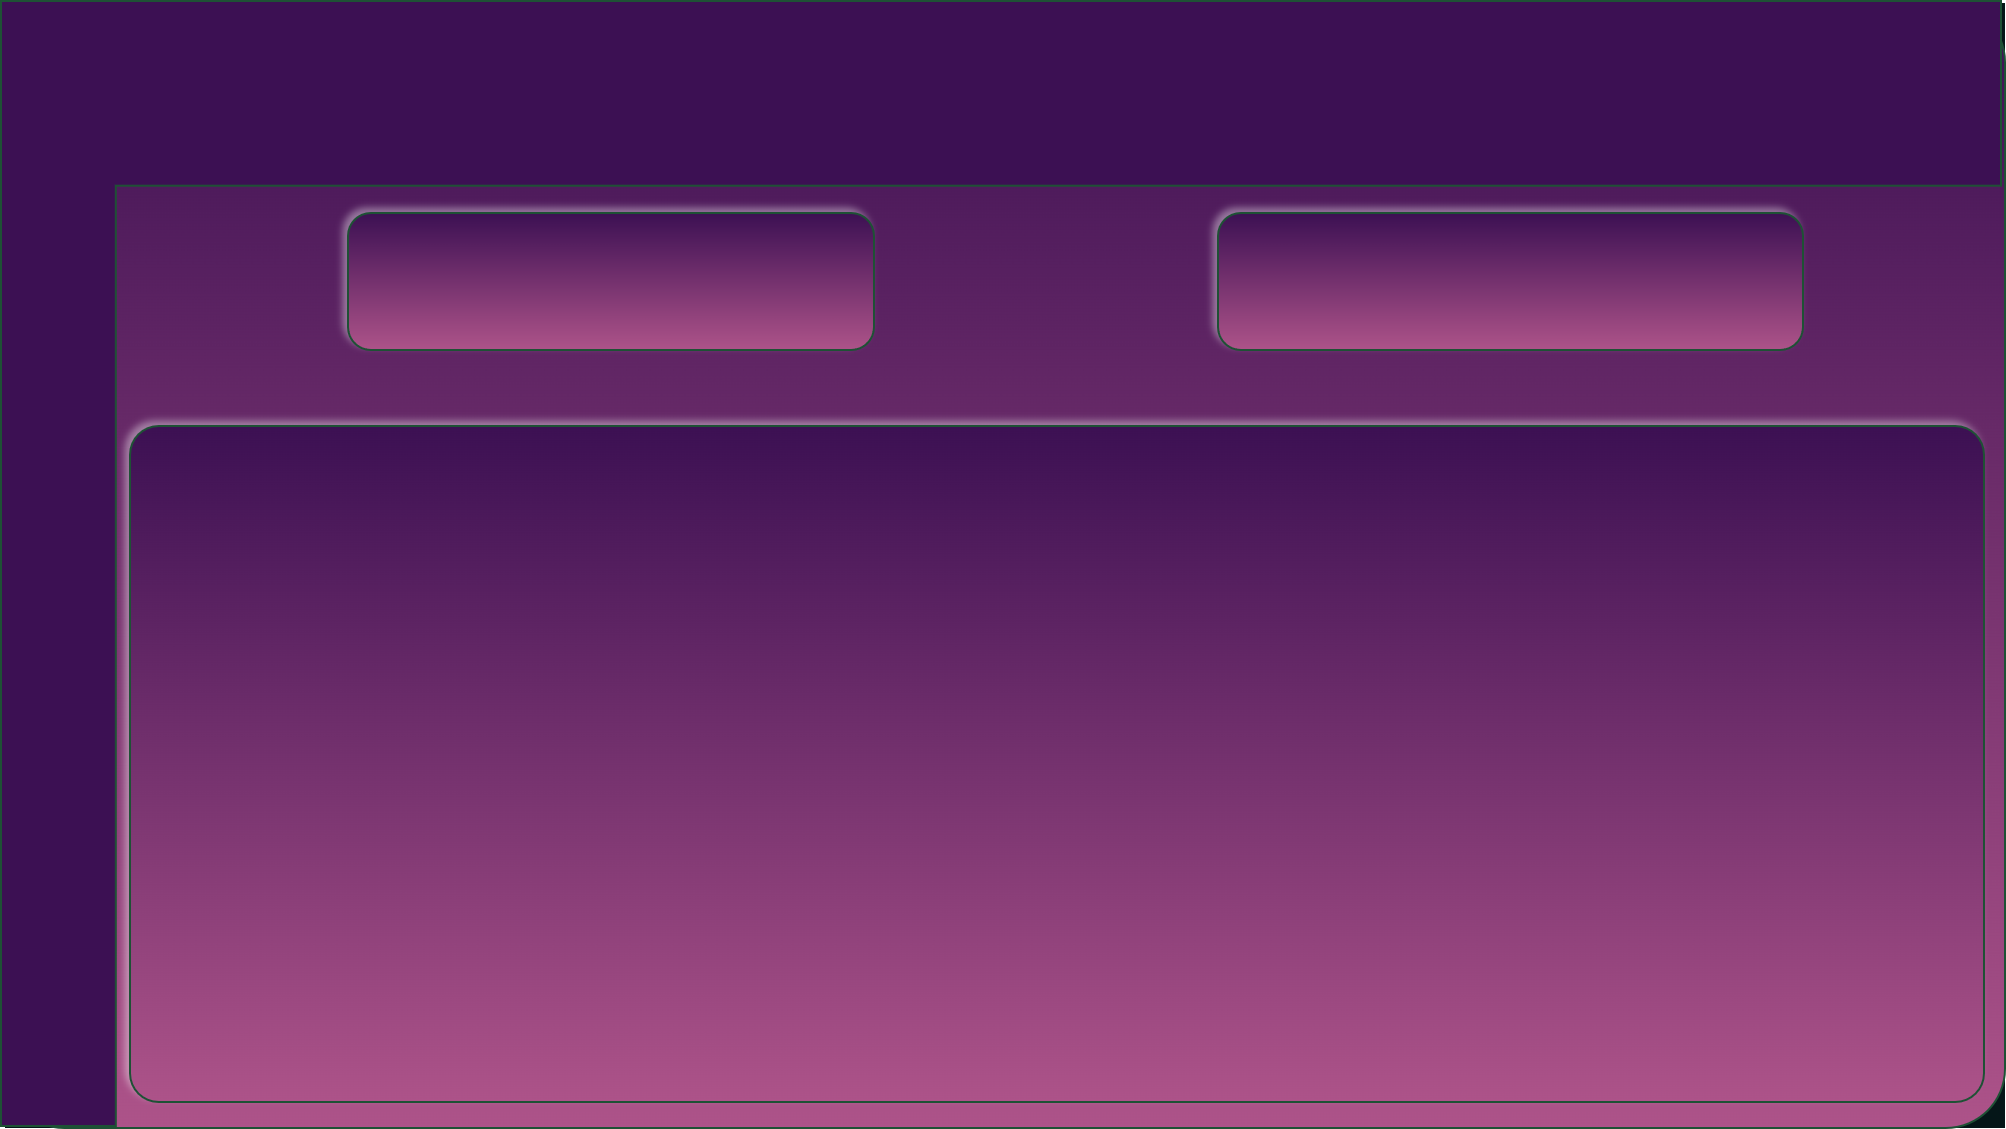

The page's visual inventory and layout, read from the dashboard file:
{"tool":"powerbi","page":{"name":"Página Inicial","canvas":[1280,720],"ordinal":2},"visuals":[{"type":"image","box":[262.2,396.9,194.2,194.2],"z":0},{"type":"image","box":[844.7,375.6,215.4,215.4],"z":1000},{"type":"textbox","box":[107.4,615.8,505.3,104.4],"z":2000},{"type":"textbox","box":[700.2,615.1,503.1,70.9],"z":3000},{"type":"image","box":[321.7,72.3,582.5,172.9],"z":4000}]}

Visuals, with their boxes in screenshot pixels (x1, y1, x2, y2), scaled from the page's 1280x720 canvas onto the 2006x1129 screenshot:
image: crop(411, 622, 715, 927)
image: crop(1324, 589, 1661, 927)
textbox: crop(168, 966, 960, 1128)
textbox: crop(1097, 965, 1886, 1076)
image: crop(504, 113, 1417, 384)
